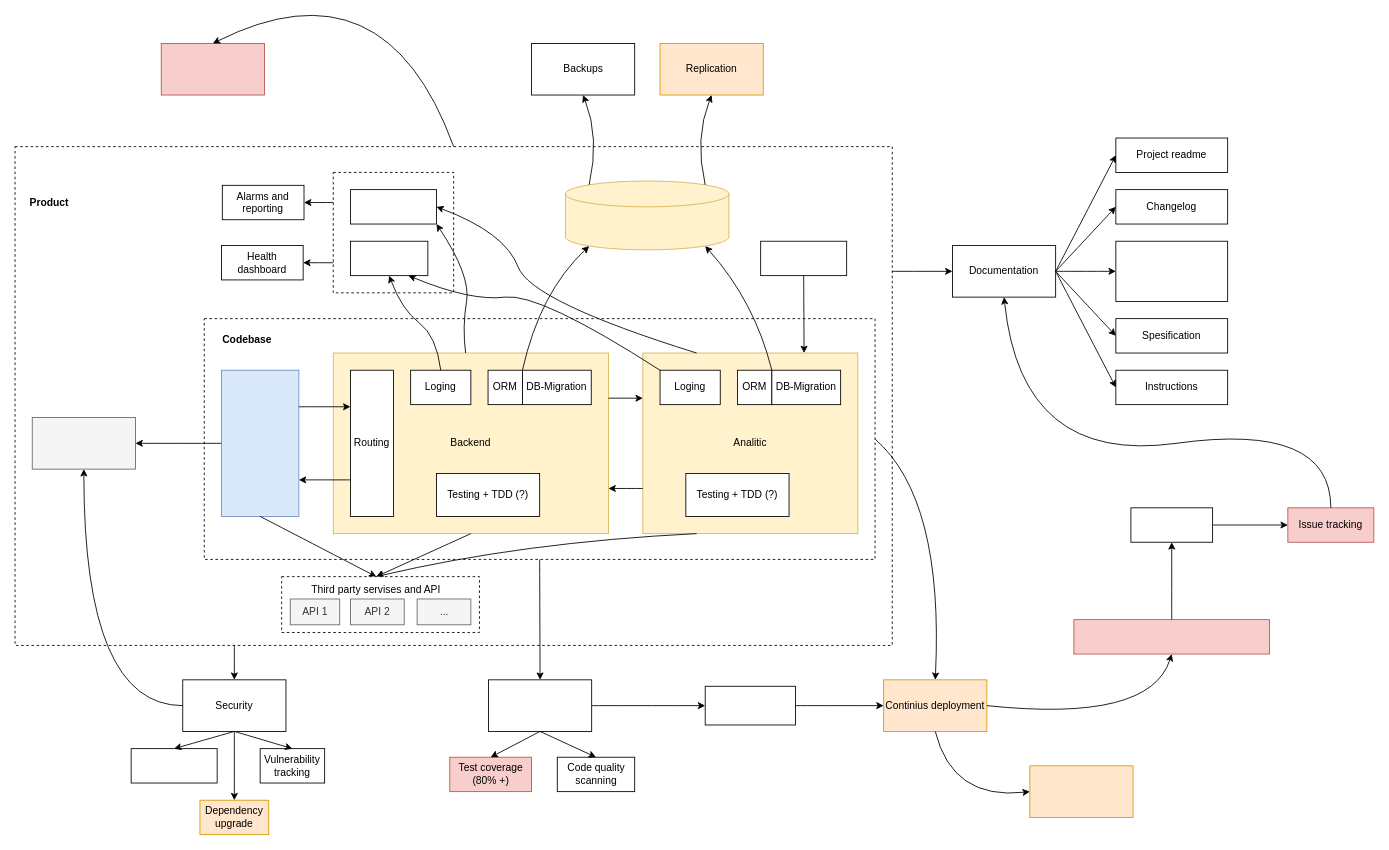
The diagram is 1389 pixels wide and 850 high, and some of its shapes have lost their labels. The shapes that lost their labels are listed below. From the top down, each one's centre as x and y in pixels, then its label:
At (x=212, y=69): "Infrasturucture as a code".
At (x=393, y=206): "Monitoring (Zabbix)".
At (x=647, y=215): "Central DB Oracle".
At (x=389, y=258): "Logger".
At (x=803, y=258): "CRON".
At (x=1171, y=270): "API specs (Posman with examples) OpenAPI possible too".
At (x=83, y=443): "Auth".
At (x=260, y=442): "Frontend".
At (x=1171, y=524): "Reqirements".
At (x=1171, y=636): "Acceptance testing / end to end testing".
At (x=540, y=705): "Code quality".
At (x=750, y=705): "Code review".
At (x=173, y=765): "License / Secret scanners".
At (x=1081, y=791): "API versioning".
